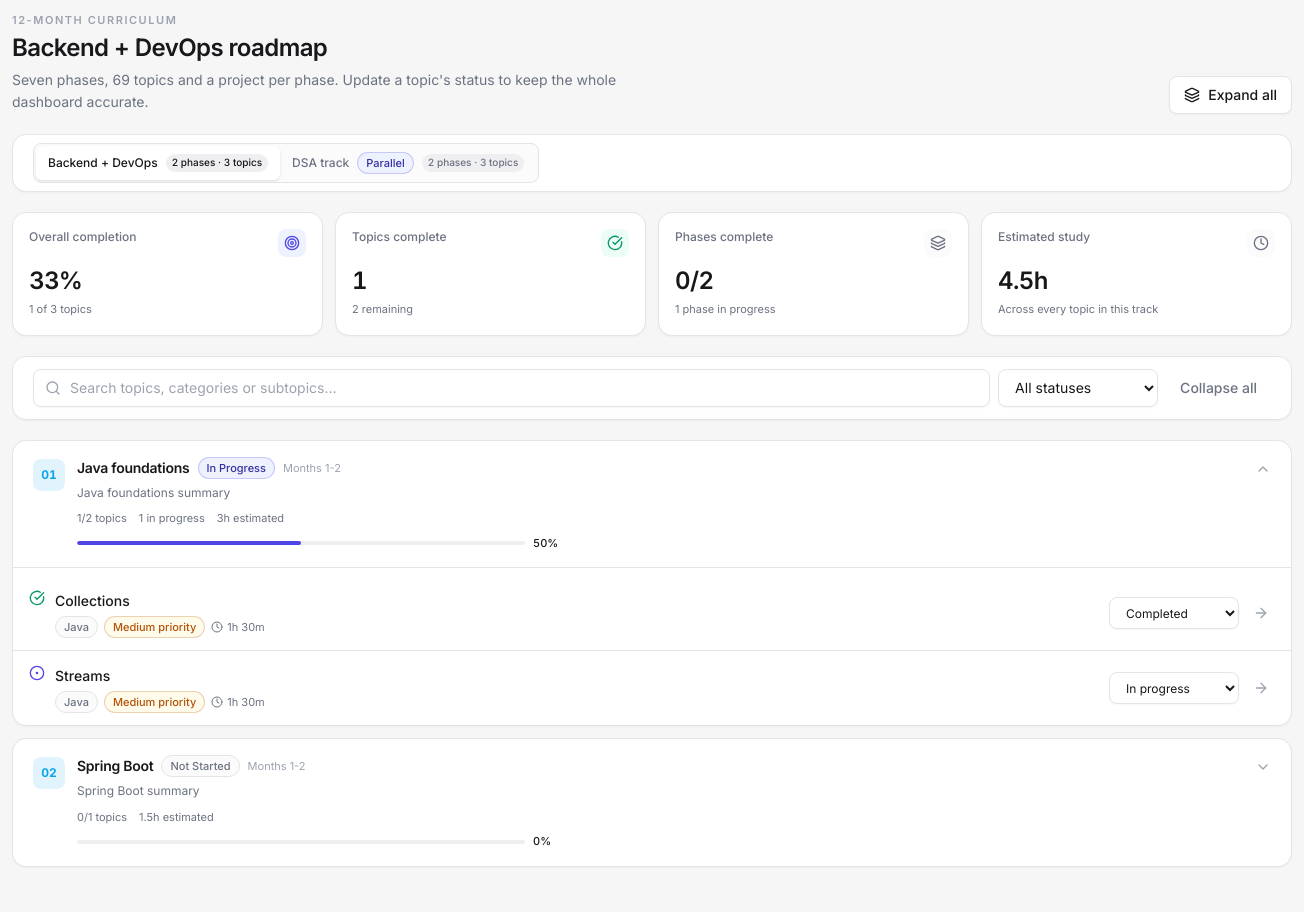
Test: RoadmapPage › searches across topics and can clear the filters
Step 1. Type "spring" into the search field named "Search the roadmap" → (512,388), box [33,369,990,407]
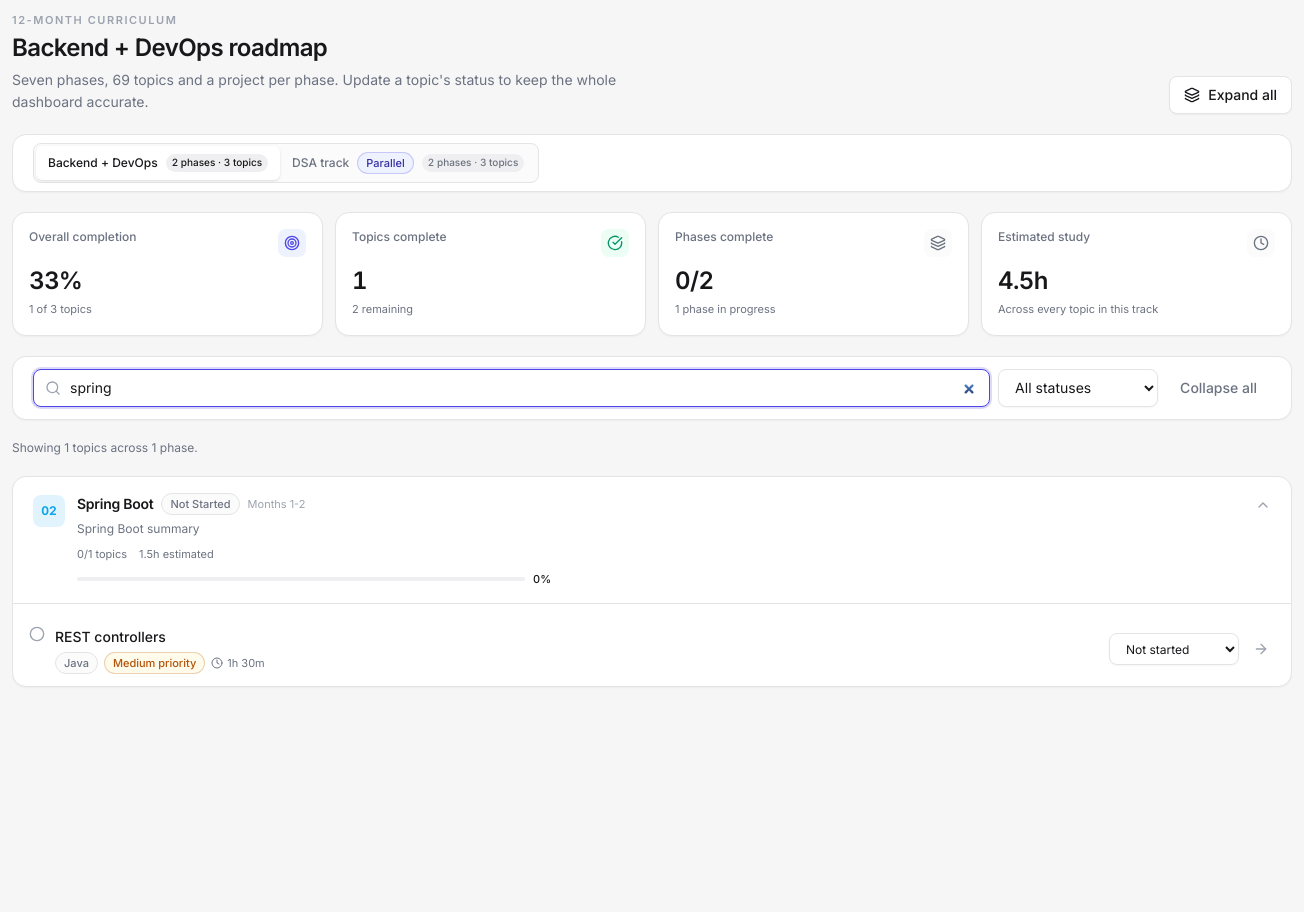
Expected: the button "Java foundations" is gone
Expected: the link "REST controllers" is shown, [55,627,166,647]
Expected: the text "Showing 1 topics across 1 phase." is shown, [12,440,198,455]
Step 2. Clear the search field named "Search the roadmap" → (512,388), box [33,369,990,407]
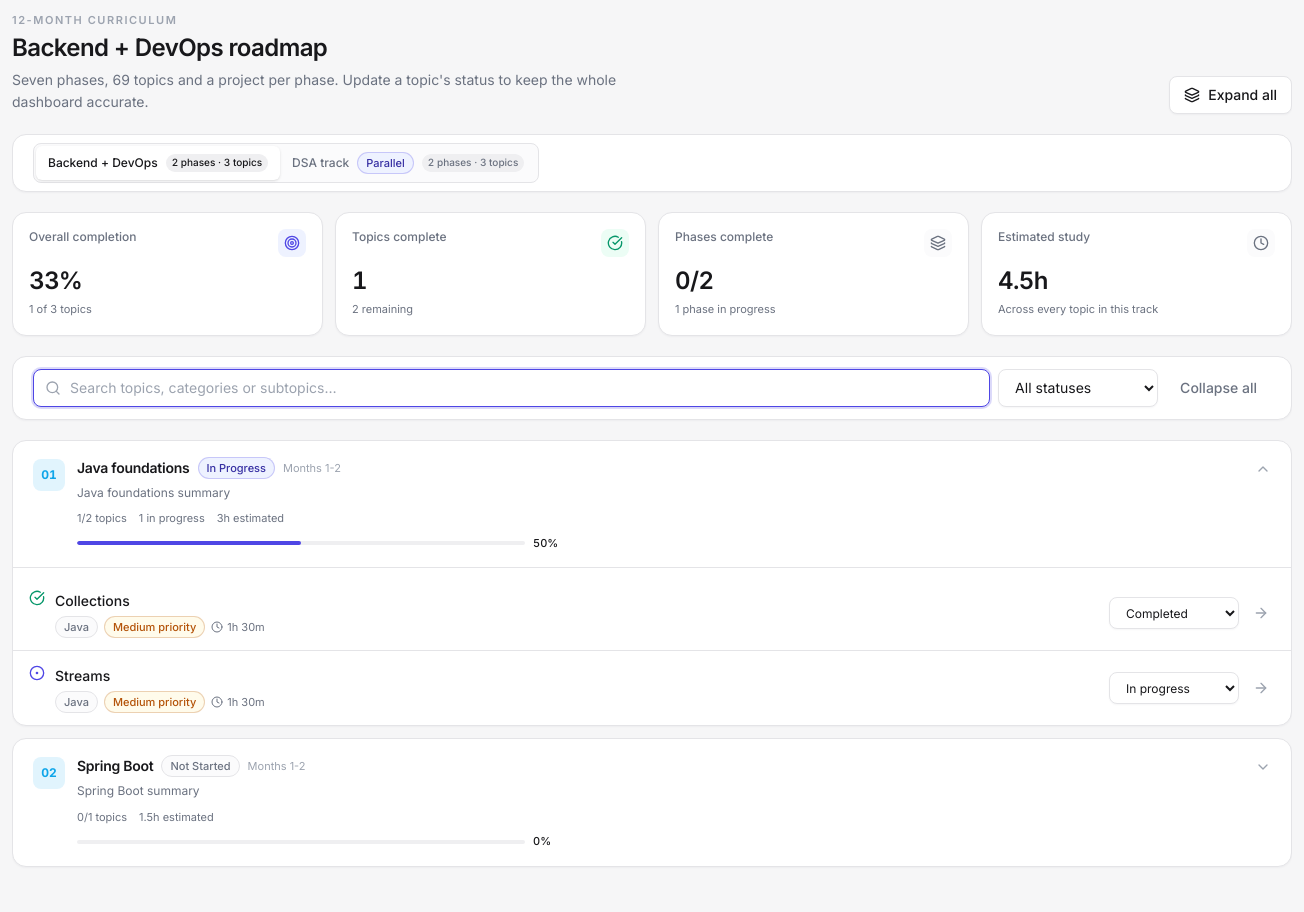
Step 3. Select "Completed" in the dropdown named "Filter by topic status" → (1078,388), box [998,369,1158,407]
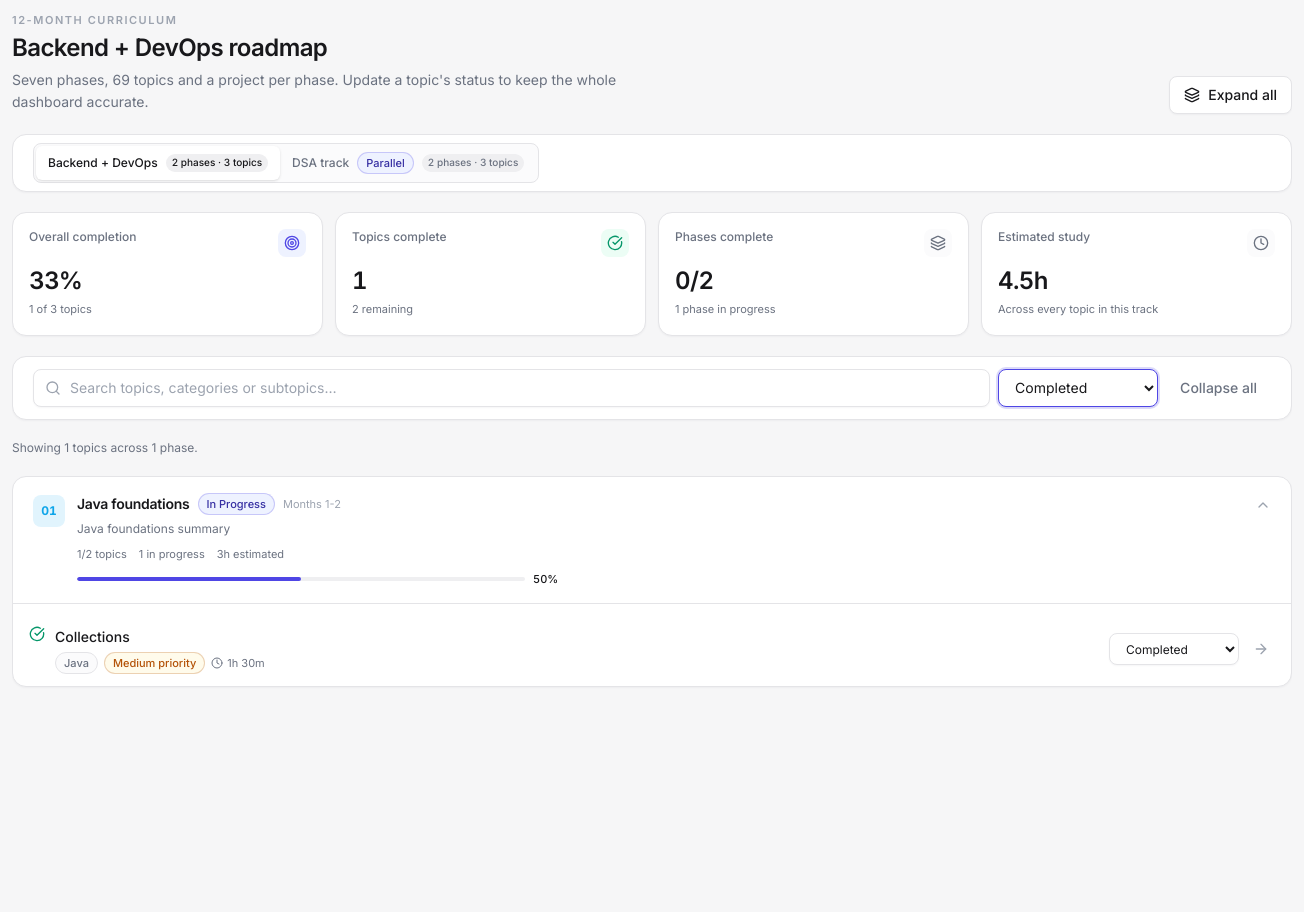
Expected: the link "Collections" is shown, [55,627,130,647]
Expected: the link "Streams" is gone
